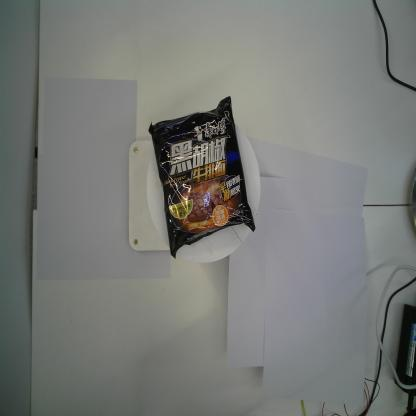Instant Noodles: (148, 95, 256, 260)
